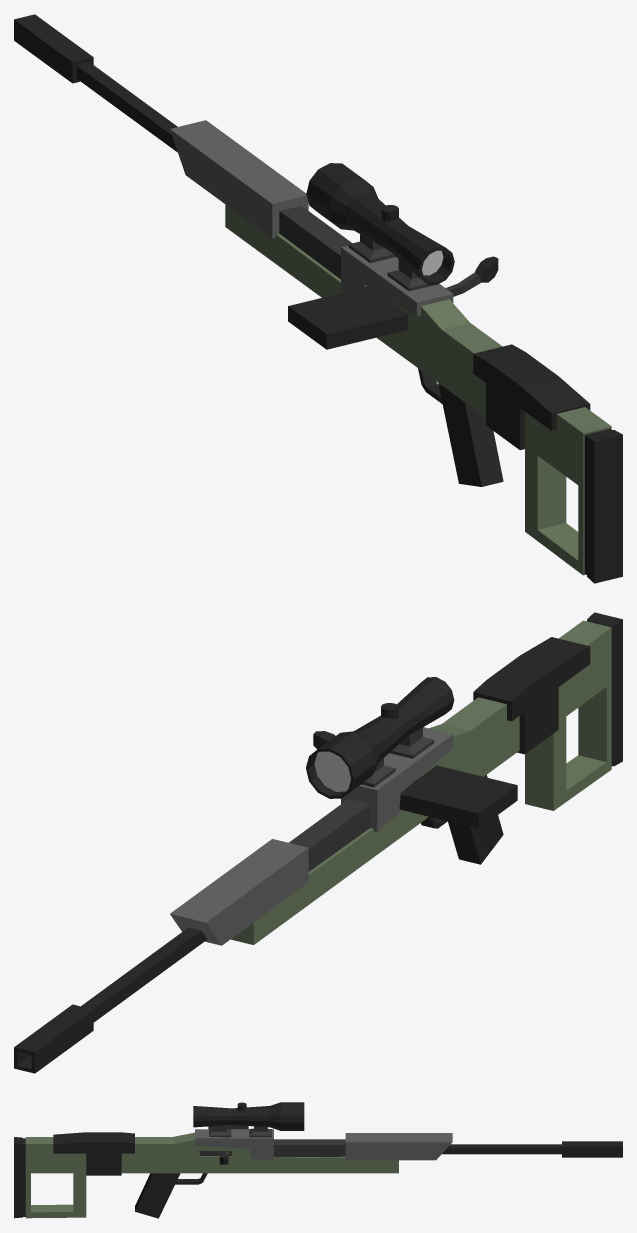
File: sniper.obj
3 renders of one model, top to bottom at view 1: azimuth 30°, elevation 25°; view 2: azimuth 150°, elevation 25°; view 3: azimuth 270°, elevation 25°, orthographic. The views are drawn at different scales.
Visible parts, largest first — view 1: Body_Cube.003, Upper_Body_Cube.002, Scope_Cube.005, Magazine_Cube.001, Stick_Cube.008; view 2: Body_Cube.003, Upper_Body_Cube.002, Scope_Cube.005, Magazine_Cube.001, Lens_Cube.009; view 3: Body_Cube.003, Upper_Body_Cube.002, Scope_Cube.005.
Boxes of the visible parts, box(x1,y1,x2,y2) form: Body_Cube.003: box(225, 204, 622, 583); Upper_Body_Cube.002: box(14, 14, 453, 316); Scope_Cube.005: box(306, 163, 454, 291); Magazine_Cube.001: box(288, 286, 407, 349); Stick_Cube.008: box(446, 256, 498, 296); Body_Cube.003: box(231, 612, 622, 944); Upper_Body_Cube.002: box(14, 727, 453, 1073); Scope_Cube.005: box(306, 677, 454, 798); Magazine_Cube.001: box(399, 765, 517, 828); Lens_Cube.009: box(314, 751, 350, 791); Body_Cube.003: box(14, 1132, 398, 1218); Upper_Body_Cube.002: box(195, 1129, 622, 1160); Scope_Cube.005: box(193, 1102, 304, 1137).
Size of the model in its own units: 1.7 by 1.88 by 9.25.
Materials: 2 (1 with a texture image).
